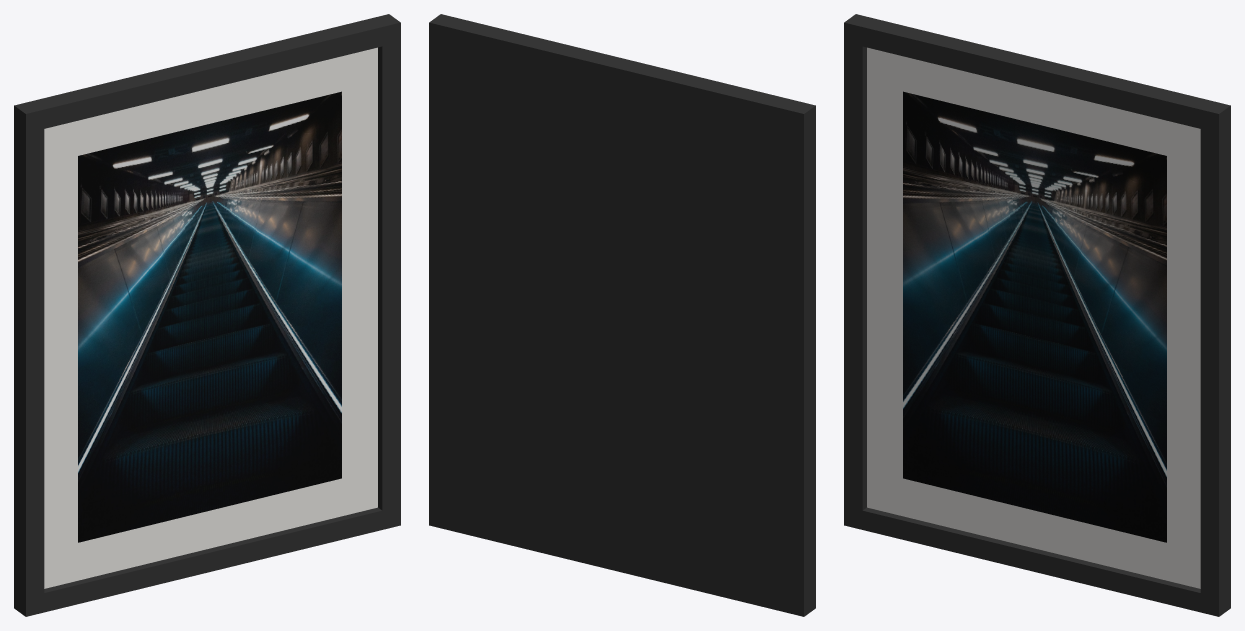
The model's file is rulltrappan-40.gltf.
The picture shows the model from 3 angles, left to right: view 1: azimuth 30°, elevation 25°; view 2: azimuth 150°, elevation 25°; view 3: azimuth 330°, elevation 25°; orthographic projection.
Parts seen in each view (by area): view 1: tavla; view 2: tavla; view 3: tavla.
Part boxes in pixels (x1,y1,x2,y2): tavla: [14, 14, 400, 616]; tavla: [429, 14, 815, 616]; tavla: [844, 14, 1230, 616].
Size of the model in its own units: 0.4058 by 0.52 by 0.022.
3 materials, 1 textured.
